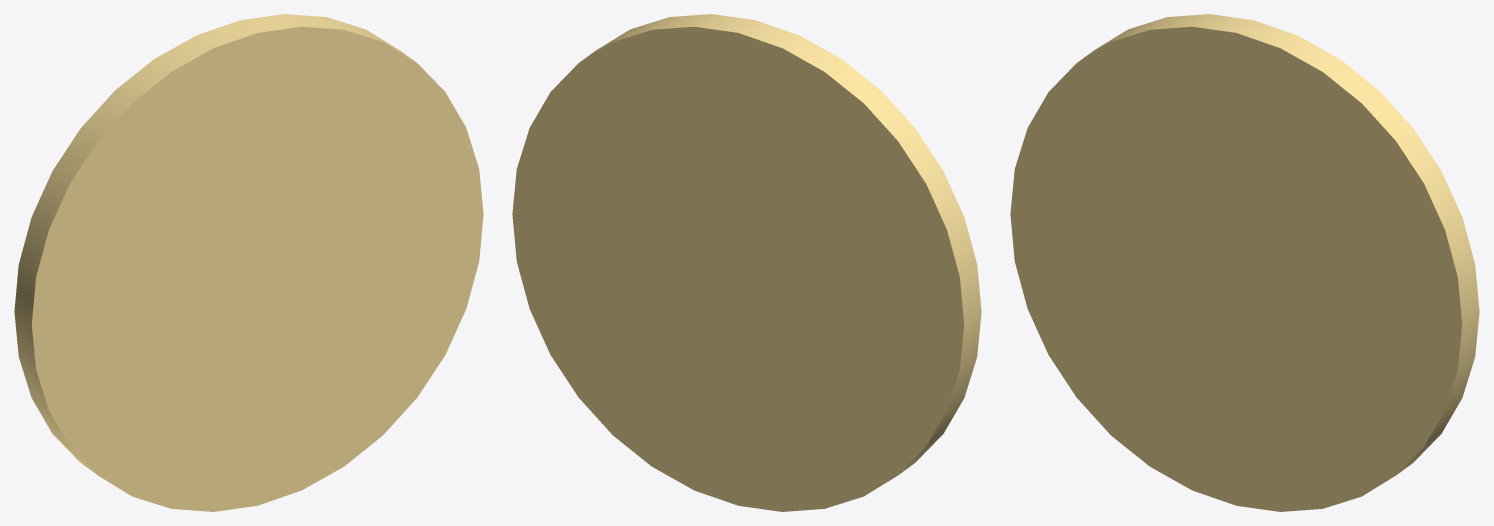
Rendered from gold_coin_plain.glb.
3 renders of one model, left to right at view 1: azimuth 30°, elevation 25°; view 2: azimuth 150°, elevation 25°; view 3: azimuth 330°, elevation 25°, orthographic.
Parts seen in each view (by area): view 1: Gold Coin; view 2: Gold Coin; view 3: Gold Coin.
Boxes of the visible parts, bbox=[...] form: Gold Coin: bbox=[14, 14, 483, 511]; Gold Coin: bbox=[512, 14, 981, 511]; Gold Coin: bbox=[1010, 14, 1479, 511].
Size of the model in its own units: 0.0267 by 0.0267 by 0.00178.
